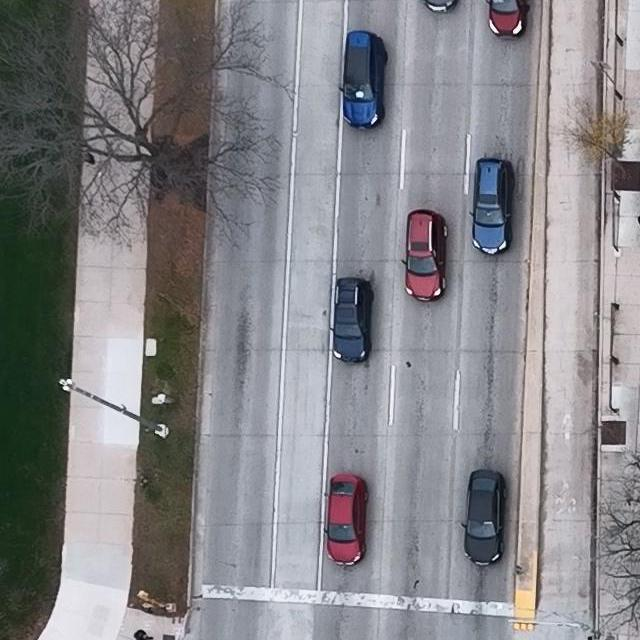car: (338, 29, 388, 131), (469, 157, 516, 257), (461, 469, 507, 566), (401, 208, 448, 302), (324, 474, 370, 566), (329, 277, 374, 364), (485, 0, 531, 38), (425, 0, 456, 12)
